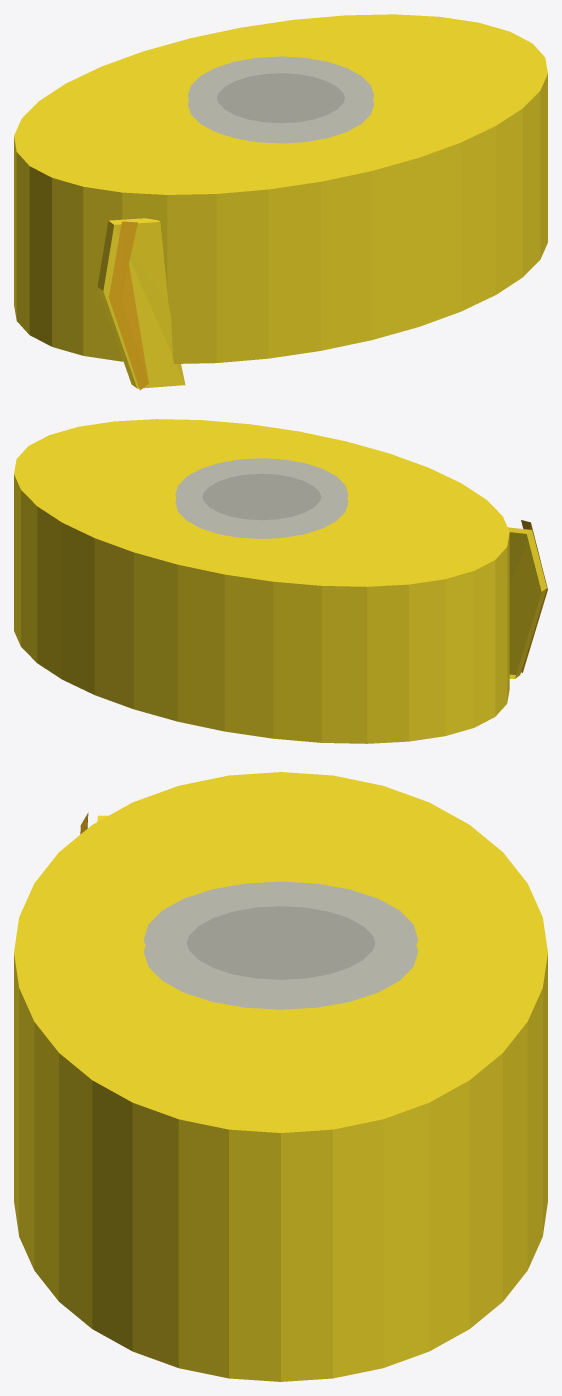
Rendered from cinta.fbx.
The picture shows the model from 3 angles, top to bottom: view 1: azimuth 30°, elevation 25°; view 2: azimuth 150°, elevation 25°; view 3: azimuth 270°, elevation 25°; orthographic projection. The views are drawn at different scales.
Parts seen in each view (by area): view 1: Cinta_Adhesiva; view 2: Cinta_Adhesiva; view 3: Cinta_Adhesiva.
Part boxes in pixels (bbox=[...]): Cinta_Adhesiva: bbox=[14, 14, 547, 390]; Cinta_Adhesiva: bbox=[14, 419, 547, 743]; Cinta_Adhesiva: bbox=[14, 772, 547, 1381].
Size of the model in its own units: 224 by 85.75 by 140.
